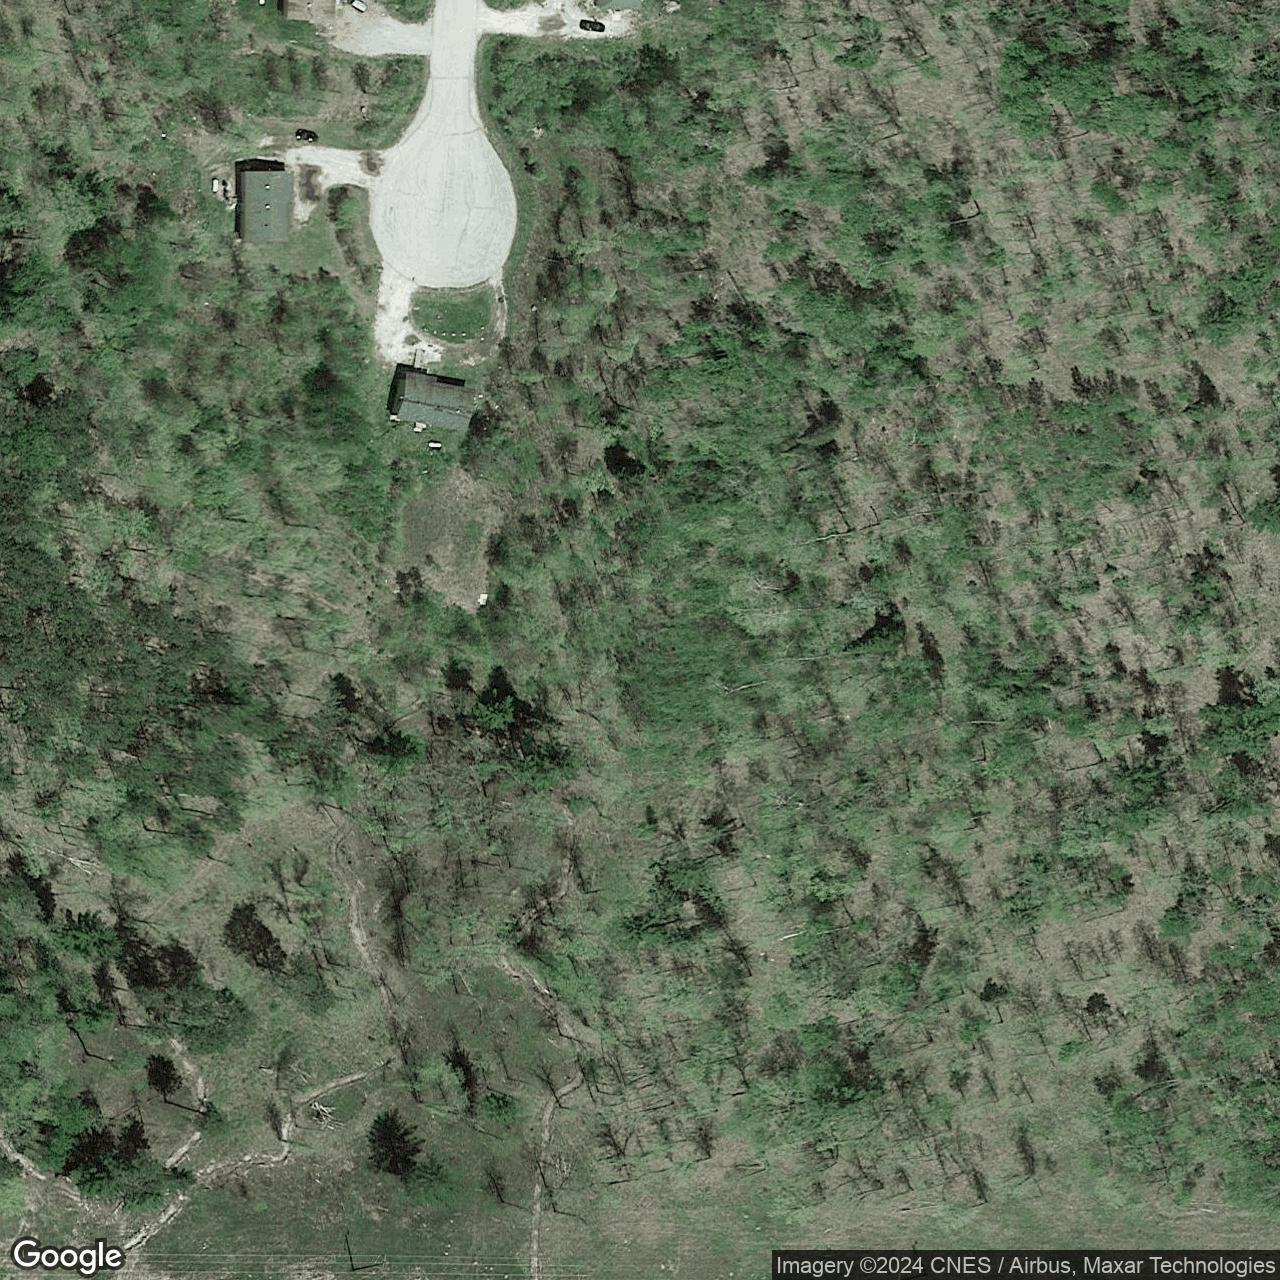House: (390, 372, 476, 434), (240, 170, 294, 244), (281, 0, 336, 21)
Propane: (428, 441, 444, 451), (211, 177, 218, 193)
